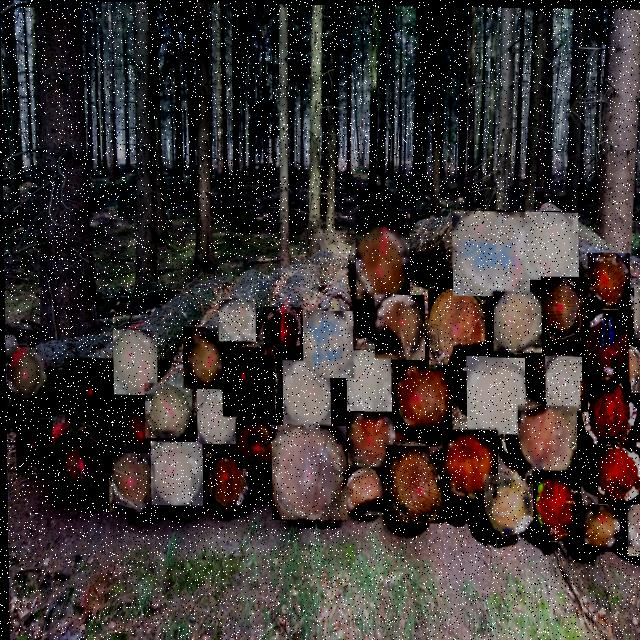wood-log: (270, 425, 345, 518), (452, 210, 529, 295), (393, 359, 451, 439), (428, 288, 486, 367), (465, 357, 524, 433), (386, 445, 442, 522), (517, 405, 576, 474), (355, 227, 409, 298), (582, 308, 635, 380), (441, 429, 496, 497), (580, 381, 635, 447), (525, 211, 578, 278), (222, 347, 274, 415), (302, 310, 352, 377), (149, 442, 202, 505), (532, 470, 580, 539), (374, 294, 424, 357), (282, 360, 330, 425), (64, 359, 112, 422), (483, 474, 530, 536), (112, 329, 156, 395), (346, 411, 394, 471), (493, 290, 541, 350), (541, 276, 586, 339), (596, 437, 640, 501), (345, 349, 390, 410), (182, 327, 226, 388), (108, 453, 153, 511), (144, 383, 191, 438), (544, 355, 587, 410), (587, 252, 629, 307), (205, 454, 248, 507), (115, 400, 155, 455), (196, 389, 236, 444), (62, 436, 102, 488), (236, 418, 277, 468), (15, 420, 51, 471), (579, 504, 618, 550), (264, 306, 301, 354), (8, 348, 42, 400), (347, 466, 383, 514), (218, 299, 255, 341), (626, 494, 640, 550), (629, 342, 640, 391), (633, 284, 640, 335)
